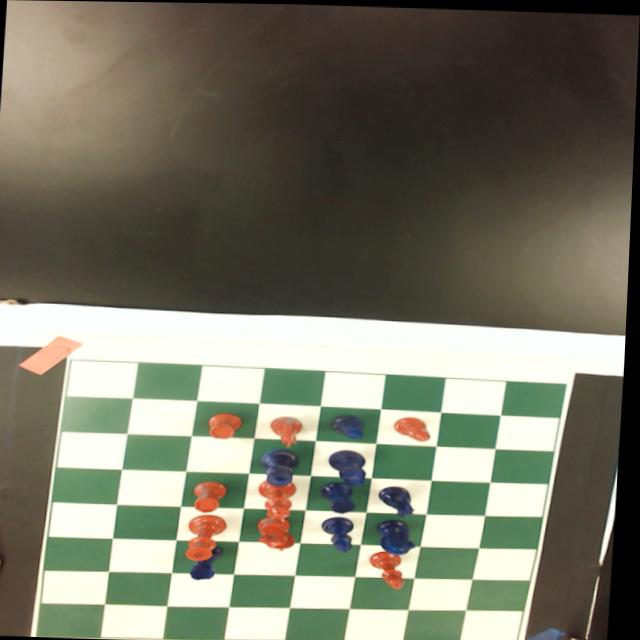B: (322, 513, 360, 553), (330, 413, 371, 440)
K: (259, 447, 303, 486)
N: (375, 517, 421, 554), (380, 484, 422, 517)
Q: (329, 448, 373, 487)
R: (322, 480, 361, 514), (193, 546, 224, 581)
b: (373, 548, 414, 590), (395, 414, 436, 441)
k: (189, 513, 232, 562)
n: (256, 515, 303, 551), (271, 414, 309, 447)
q: (258, 476, 303, 520)
r: (189, 478, 232, 512), (207, 411, 248, 439)
